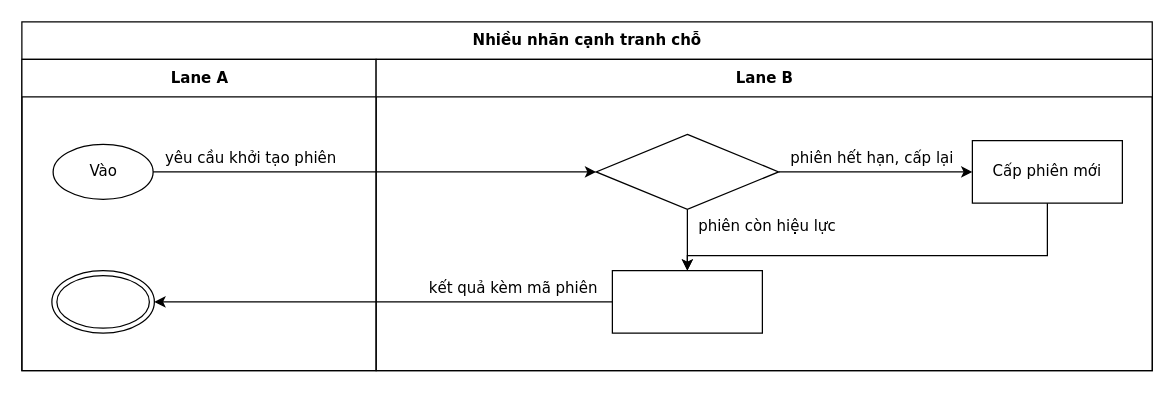
This 1175x393 diagram has some shape labels left out. Each missing label, with the centre of its shape:
Nhận: (102,301)
Phiên hợp lệ?: (687,171)
Trả dữ liệu: (686,301)
